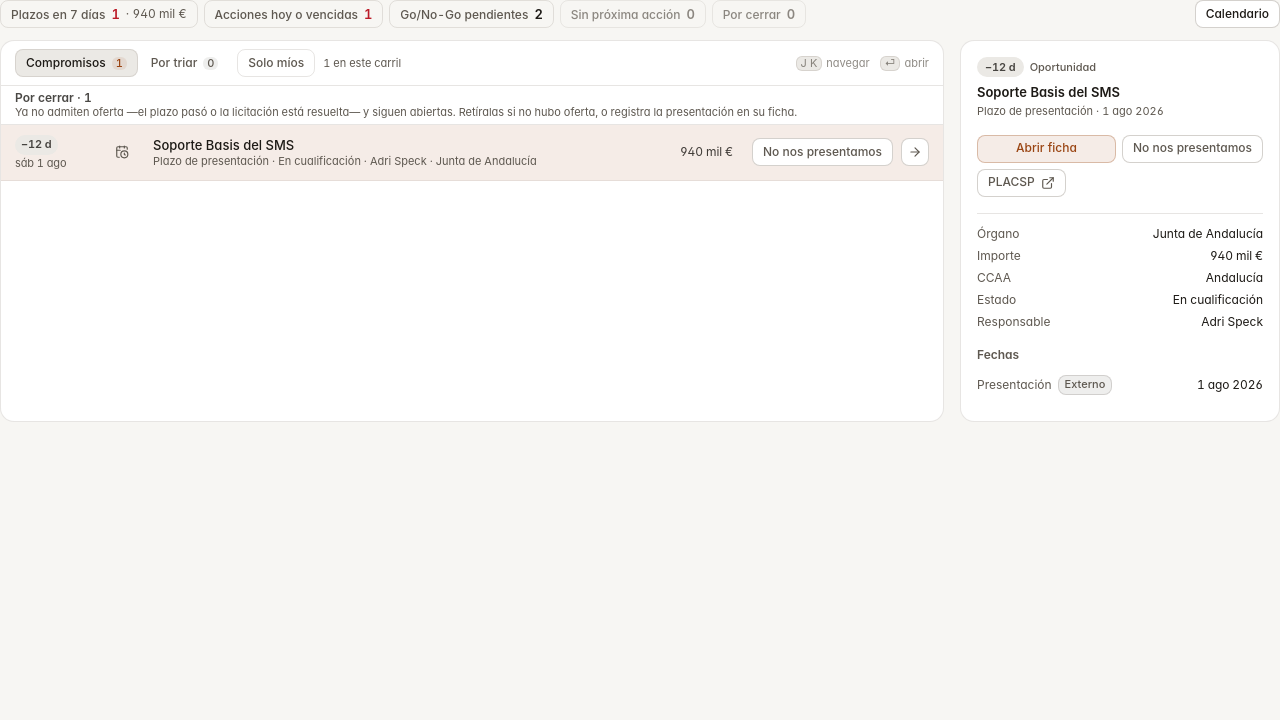
Test case: AgendaView — plazos que ya no obligan › cancelar el diálogo no toca la oportunidad
Click the button "No nos presentamos" below "J K": (822, 152) x1=752 y1=138 x2=893 y2=166
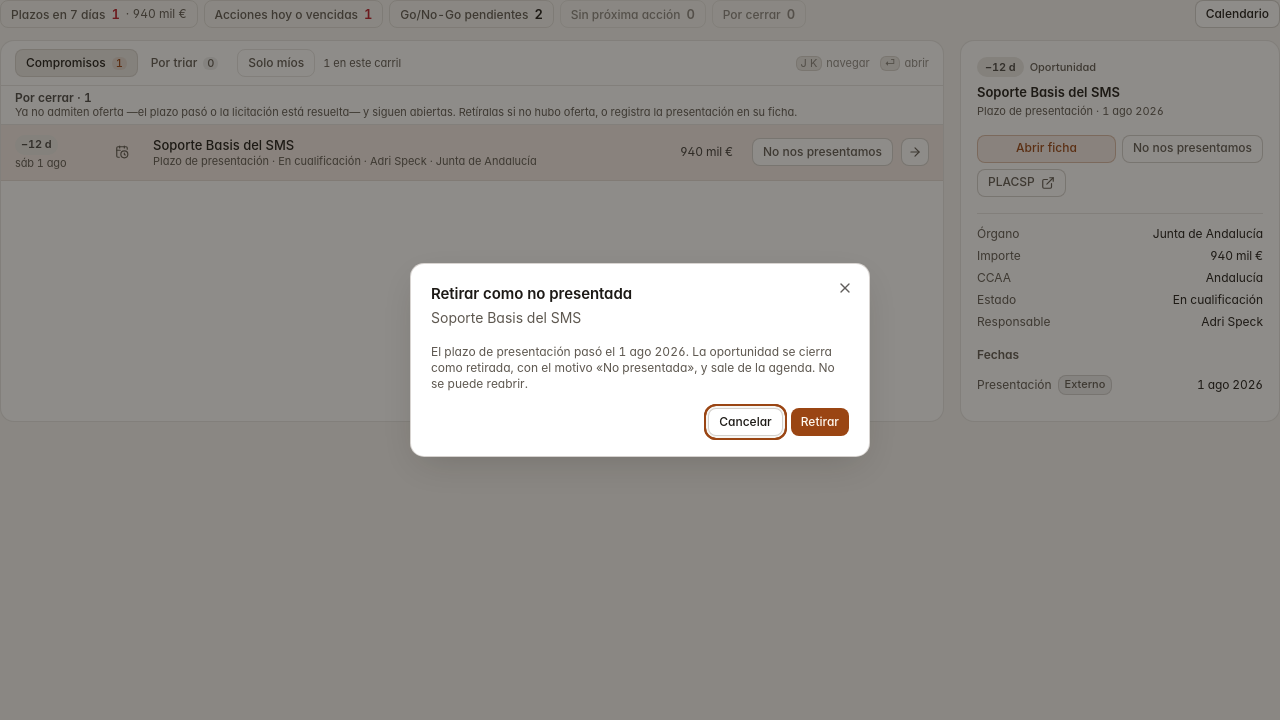
Click the button "Cancelar": (746, 422) x1=708 y1=408 x2=783 y2=436
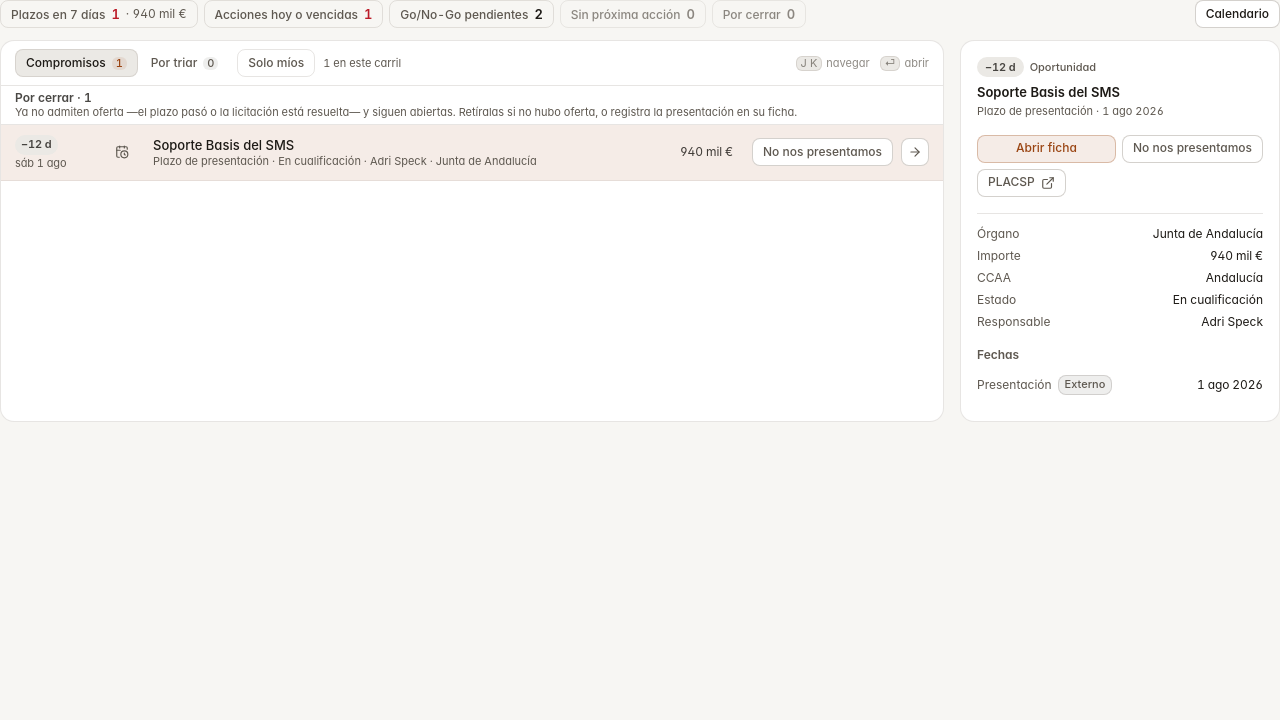
Result: the dialog is gone
